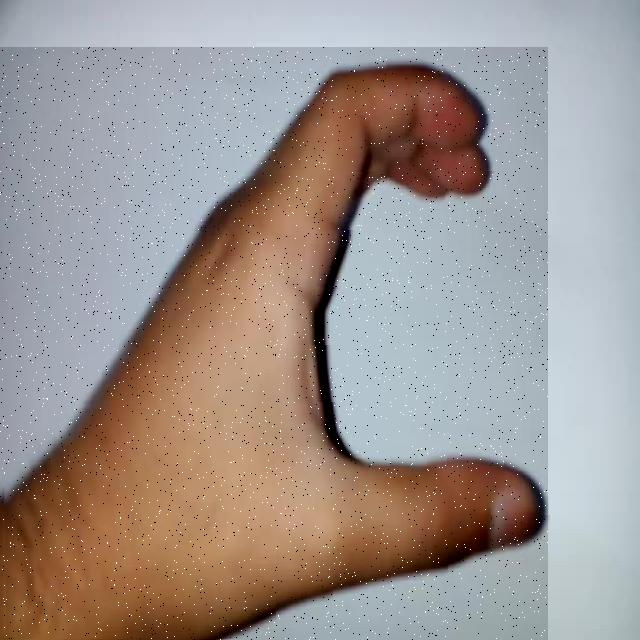C: (0, 47, 548, 640)
